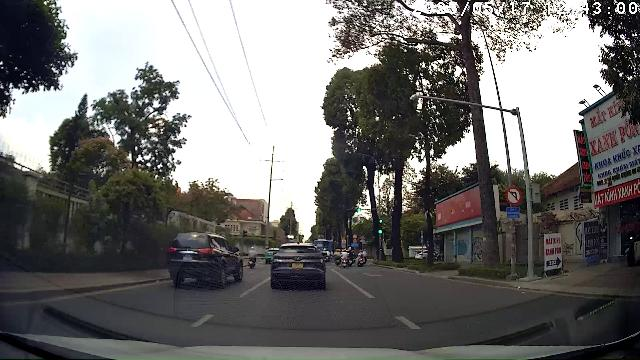123a-cam-re-trai: (506, 186, 522, 206)
